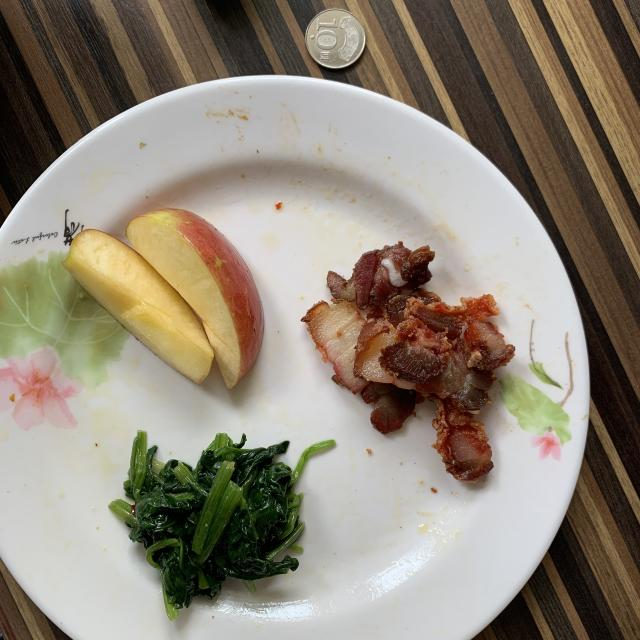apple -sliced-: (62, 209, 264, 389)
coin: (305, 9, 365, 69)
mustard greens: (110, 431, 304, 620)
red grilled pork: (302, 241, 515, 481)
